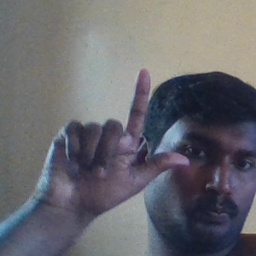L: (37, 65, 190, 214)
